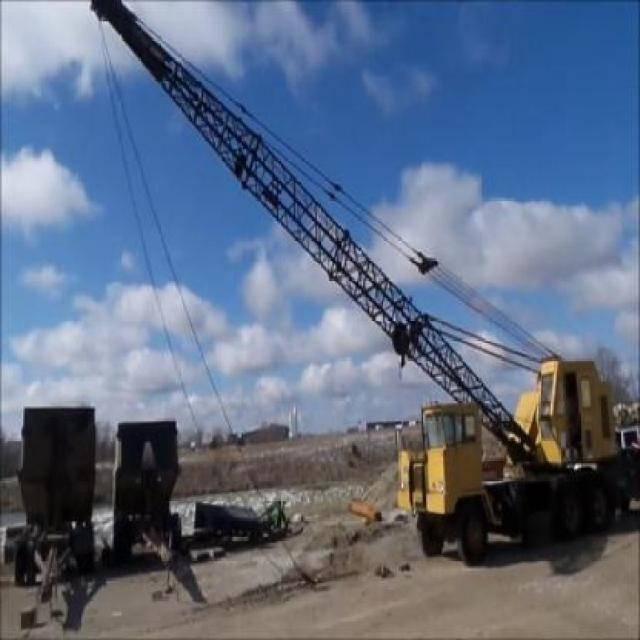Mobile Crane: (86, 0, 639, 566)
